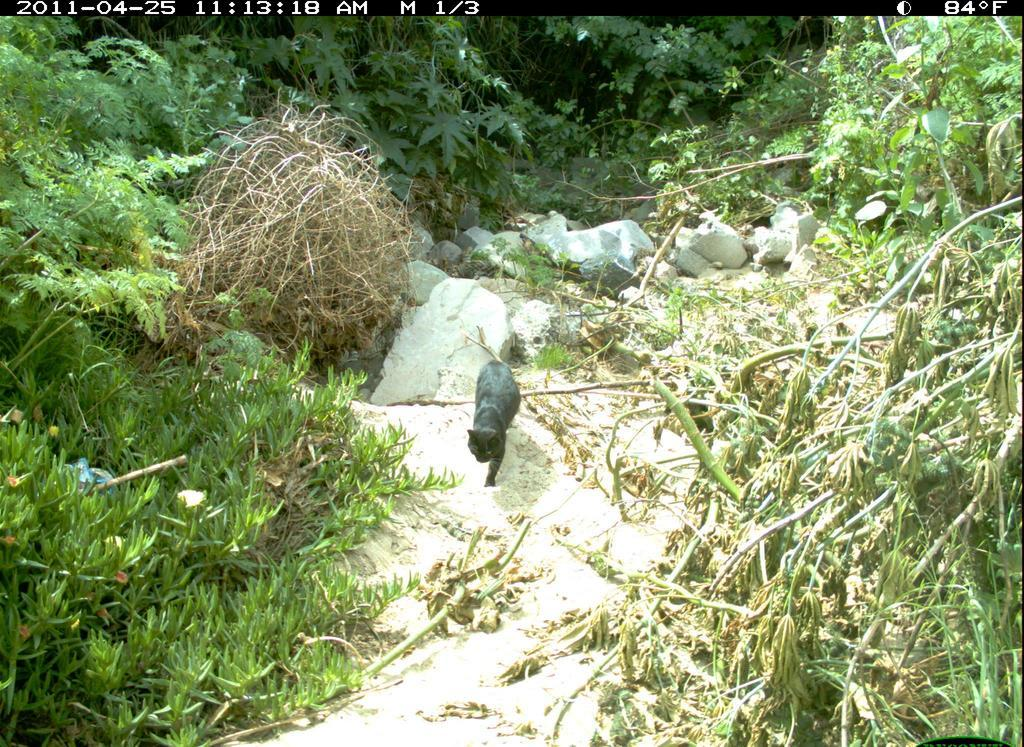cat: (463, 347, 528, 505)
